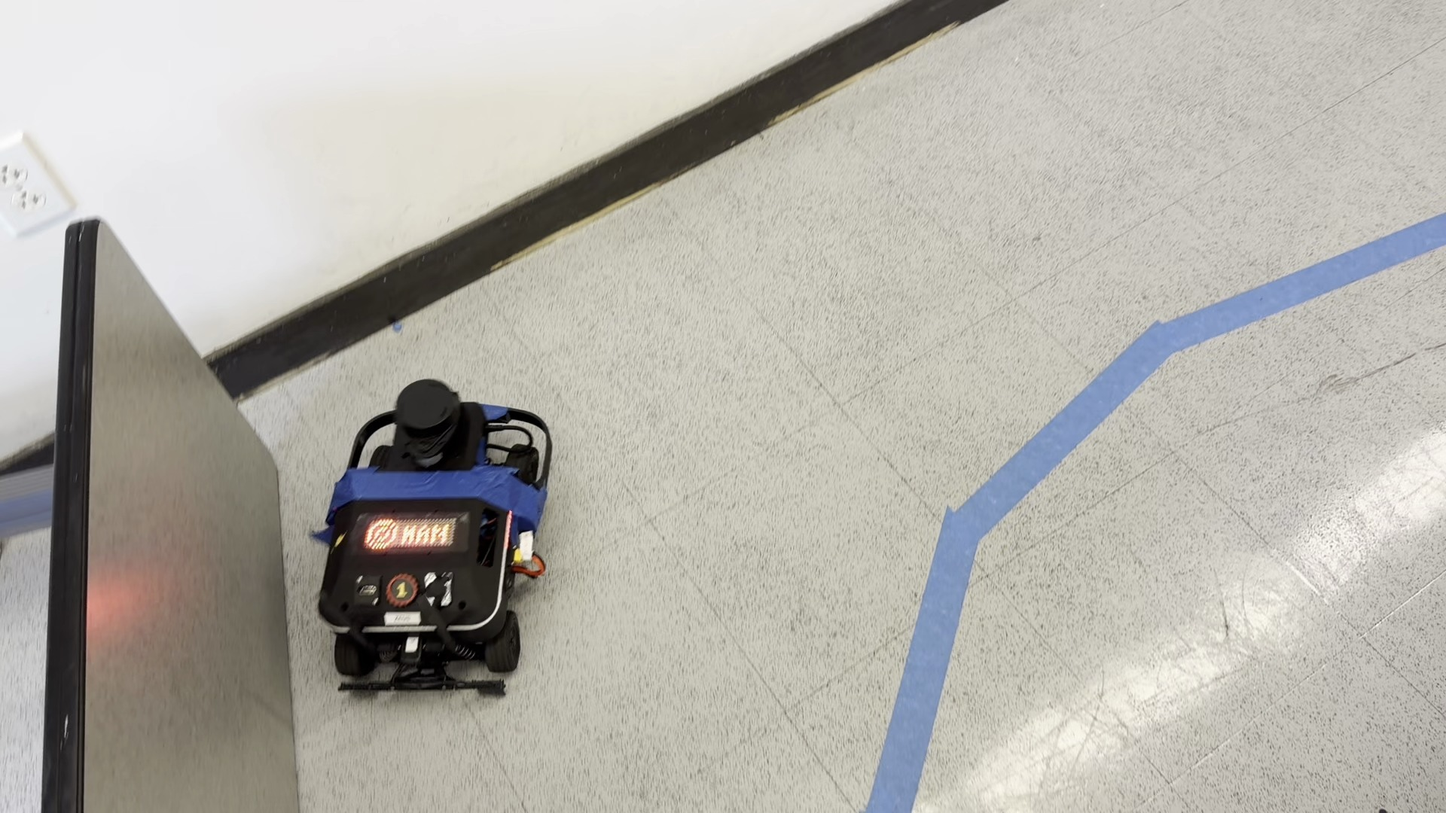racecar: (315, 382, 554, 695)
